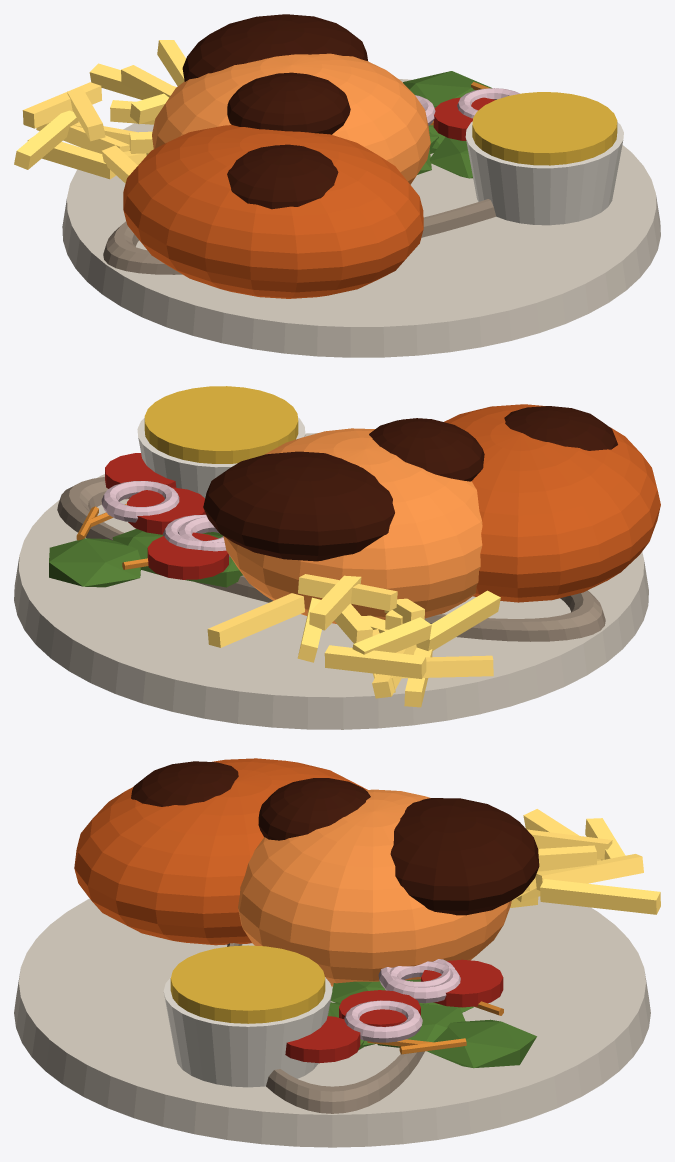
The model's file is braza-rem.glb.
3 views of the same model, one above another, from view 1: azimuth 30°, elevation 25°; view 2: azimuth 150°, elevation 25°; view 3: azimuth 270°, elevation 25° (orthographic). The views are drawn at different scales.
Visible parts, largest first — view 1: PlatoBraza; view 2: PlatoBraza; view 3: PlatoBraza.
Part boxes in pixels (x1,y1,x2,y2): PlatoBraza: (14, 14, 660, 357); PlatoBraza: (14, 386, 660, 729); PlatoBraza: (14, 758, 660, 1147).
Bounding box in the file's own units: 0.264 × 0.084 × 0.2682.
